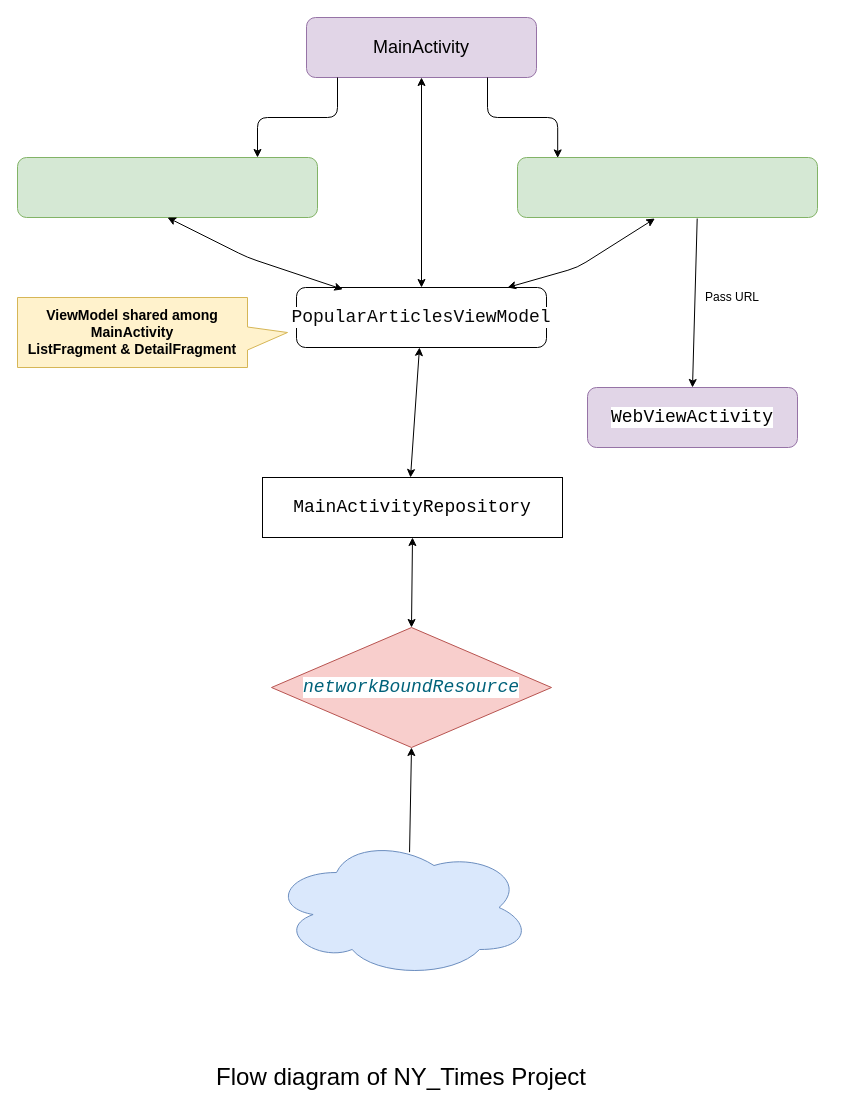
The diagram is 841 pixels wide and 1109 high, and some of its shapes have lost their labels. The shapes that lost their labels are listed below. From the top down, each one's centre as x and y in pixels, then its label:
At [167,187]: "PopularArticlesListFragment".
At [667,187]: "PopularArticlesDetailFragment".
At [401,907]: "Server".
